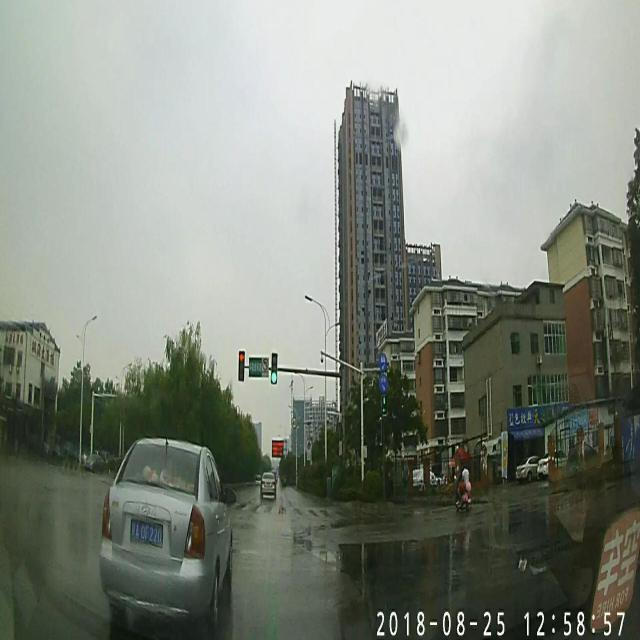car: (98, 436, 234, 630), (260, 470, 276, 500)
